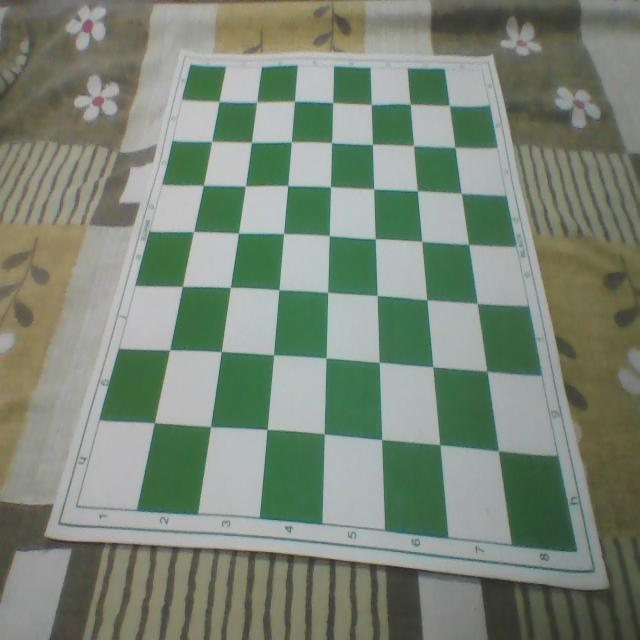square: (501, 450, 578, 554), (442, 443, 511, 548), (80, 418, 154, 511), (137, 423, 209, 518), (383, 439, 447, 544), (200, 424, 266, 522), (261, 429, 325, 528), (324, 431, 384, 533), (492, 371, 558, 456), (156, 345, 220, 428), (435, 367, 498, 451), (380, 361, 440, 446), (212, 348, 273, 431), (100, 348, 165, 423), (479, 301, 542, 377), (326, 358, 382, 440), (268, 353, 325, 433), (168, 284, 229, 354), (378, 296, 434, 371), (430, 297, 486, 372), (121, 281, 180, 351), (328, 289, 381, 365), (223, 284, 278, 357), (473, 242, 528, 312), (274, 288, 328, 358), (376, 236, 428, 305), (183, 229, 237, 294), (424, 240, 477, 306), (136, 228, 190, 288), (231, 231, 283, 293), (280, 232, 330, 296), (329, 234, 378, 298), (462, 192, 516, 250), (148, 181, 202, 239), (420, 188, 470, 249), (330, 186, 378, 243), (458, 146, 506, 202), (374, 187, 422, 243), (239, 184, 287, 239), (194, 183, 244, 235), (285, 184, 330, 239), (204, 140, 252, 190), (163, 138, 210, 186), (416, 144, 461, 193), (289, 140, 332, 191), (247, 139, 292, 187), (451, 104, 497, 150), (373, 145, 418, 192), (332, 141, 375, 189), (411, 105, 456, 148), (172, 102, 220, 142), (212, 100, 255, 142), (252, 102, 295, 144), (292, 99, 333, 143), (332, 103, 373, 146), (445, 69, 490, 108), (373, 102, 412, 146), (183, 62, 225, 102), (409, 65, 447, 105), (258, 62, 296, 102), (333, 64, 371, 104), (371, 69, 411, 106), (219, 68, 262, 102), (295, 67, 335, 103)
